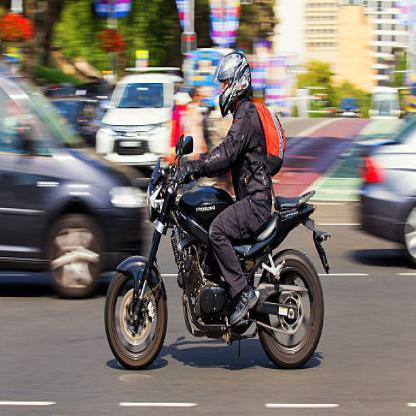Motorcycle: (102, 144, 332, 383)
